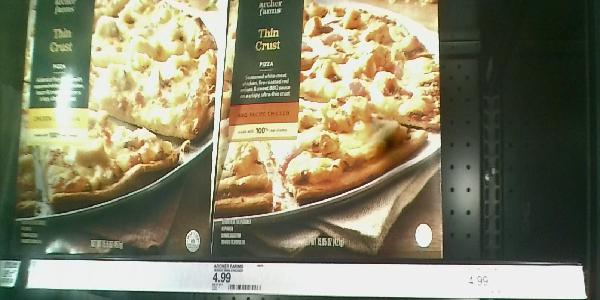pizza1: (213, 1, 447, 265), (1, 3, 212, 259)
